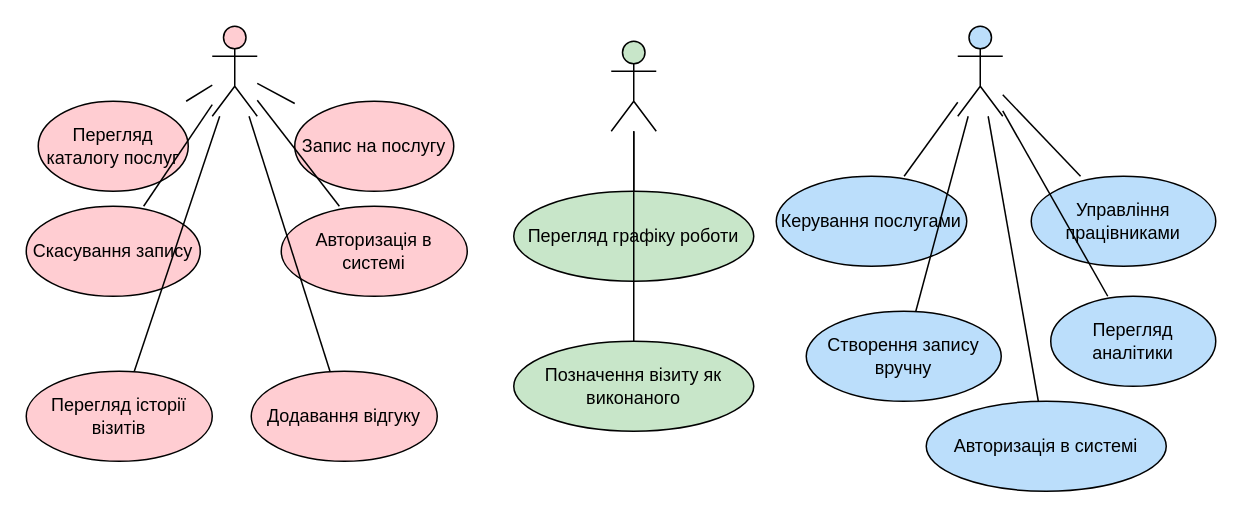
This 1242x518 diagram has some shape labels left out. Here are the shapes that lost their labels. From the top down, the centre of each, then its label:
pixel 234 70: Клієнт
pixel 633 85: Майстер
pixel 979 70: Адміністратор
